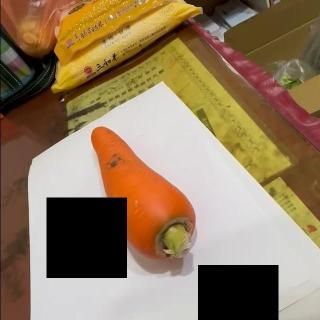carrot: (90, 125, 197, 261)
